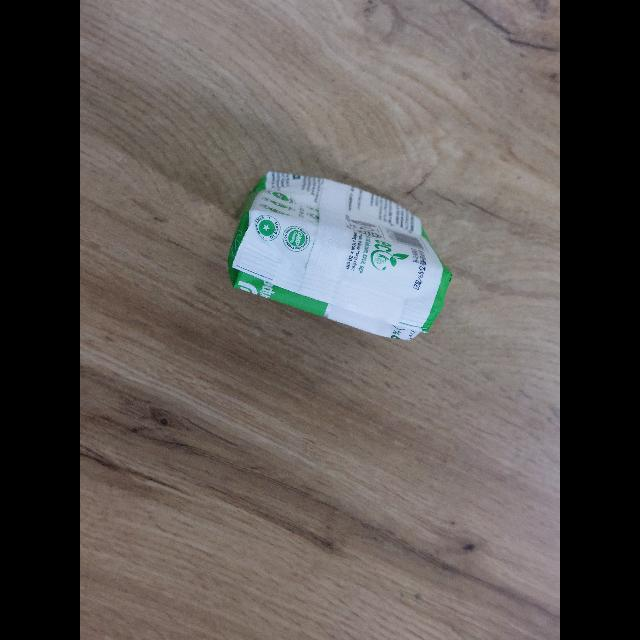khan_giay: (229, 171, 451, 339)
